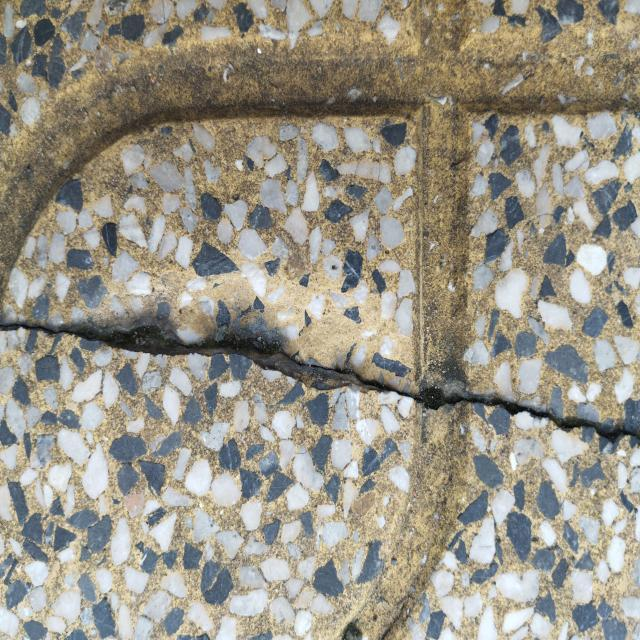horizontal crack: (0, 321, 639, 438)
